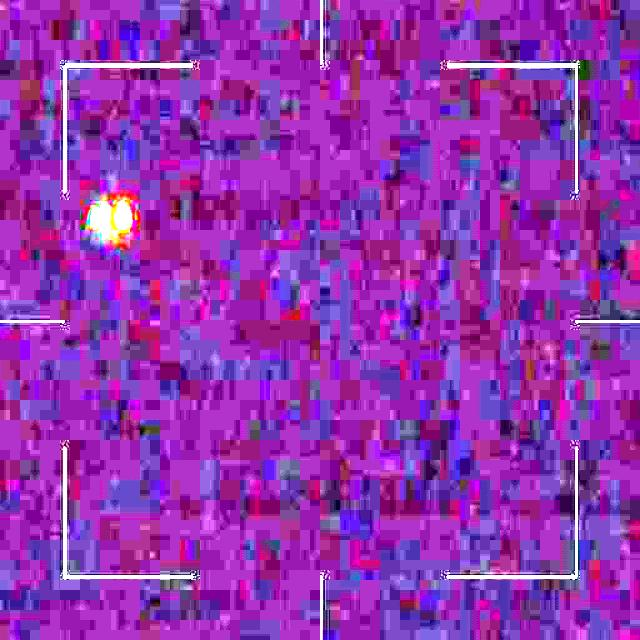bird: (92, 200, 134, 241)
